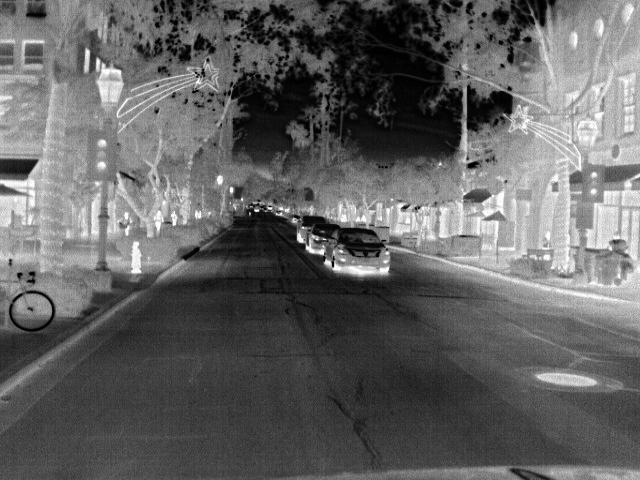car: (323, 225, 391, 272), (305, 225, 339, 256), (294, 214, 327, 244), (290, 213, 304, 224)
person: (609, 230, 631, 257), (117, 210, 133, 238), (153, 207, 165, 234), (168, 209, 180, 227)
